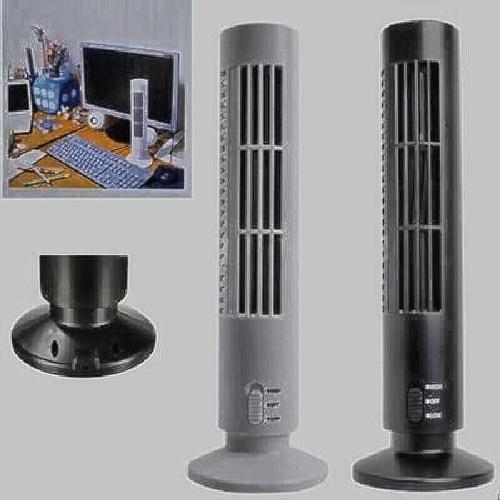fan: (201, 22, 322, 485), (368, 26, 488, 479)
